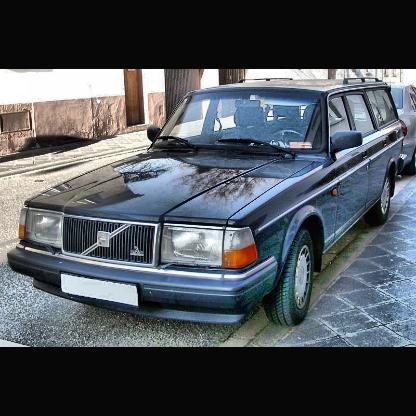Volvo 240 Sedan 1993: (7, 75, 410, 327)
